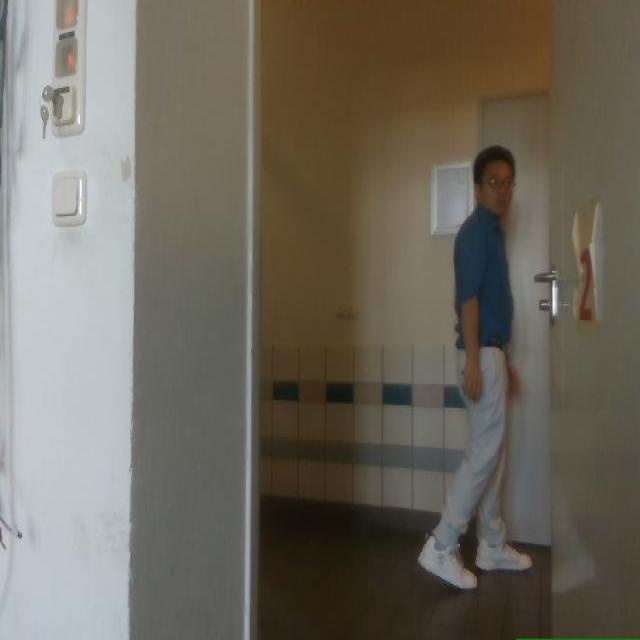humans: (418, 145, 531, 589)
objects: (550, 0, 639, 636)
